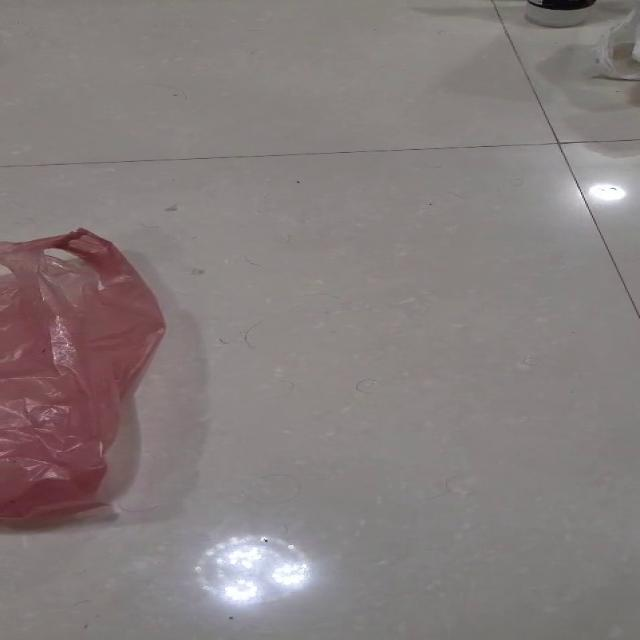plastic: (0, 226, 166, 525)
